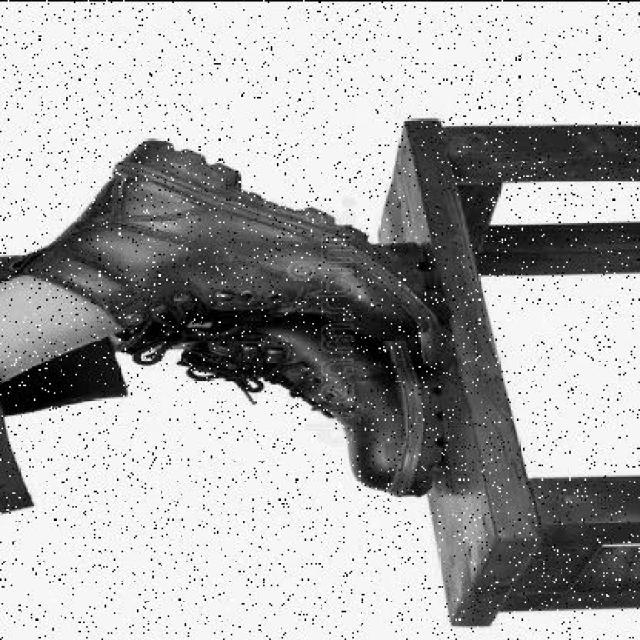shoes: (32, 165, 436, 317), (192, 310, 433, 488)
